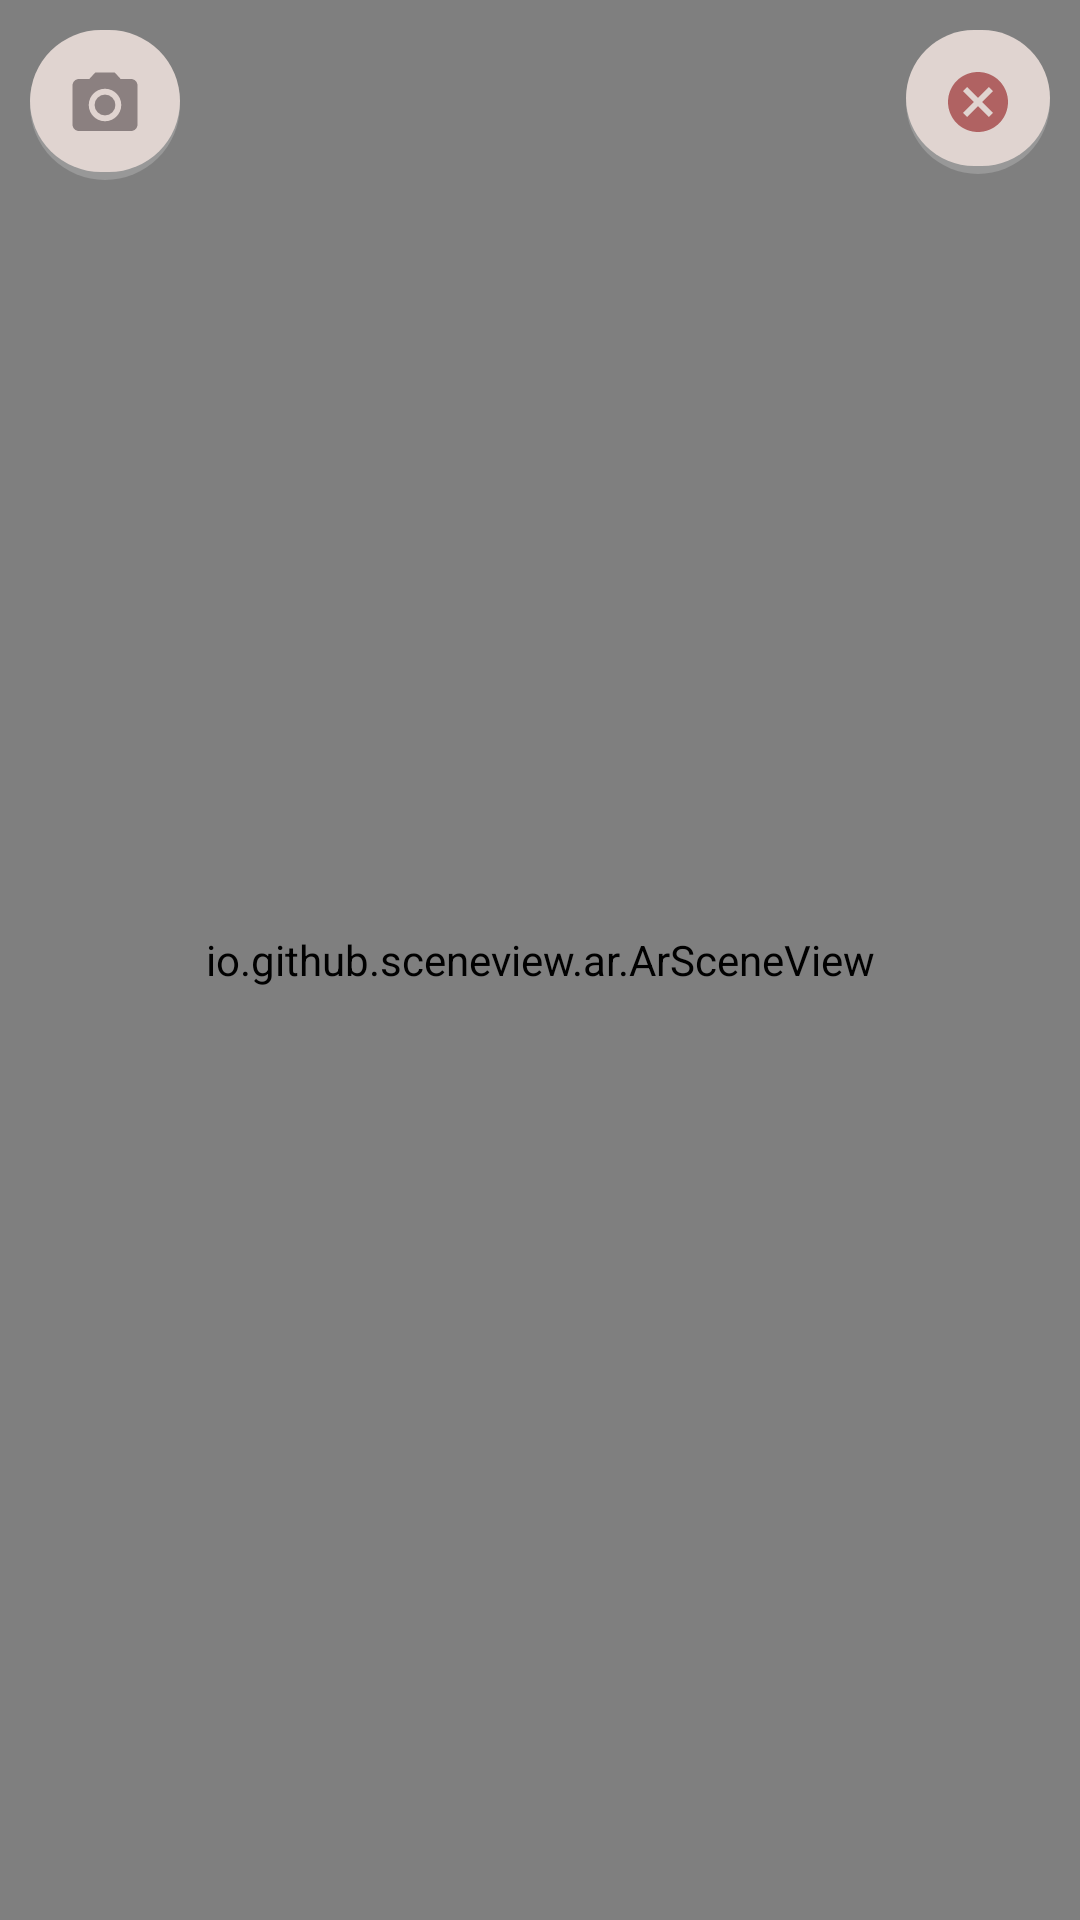

Named icons in this screenshot (1080 x 1920) and their centers, [x,y]:
camera: [105,105]
cancel: [978,101]
